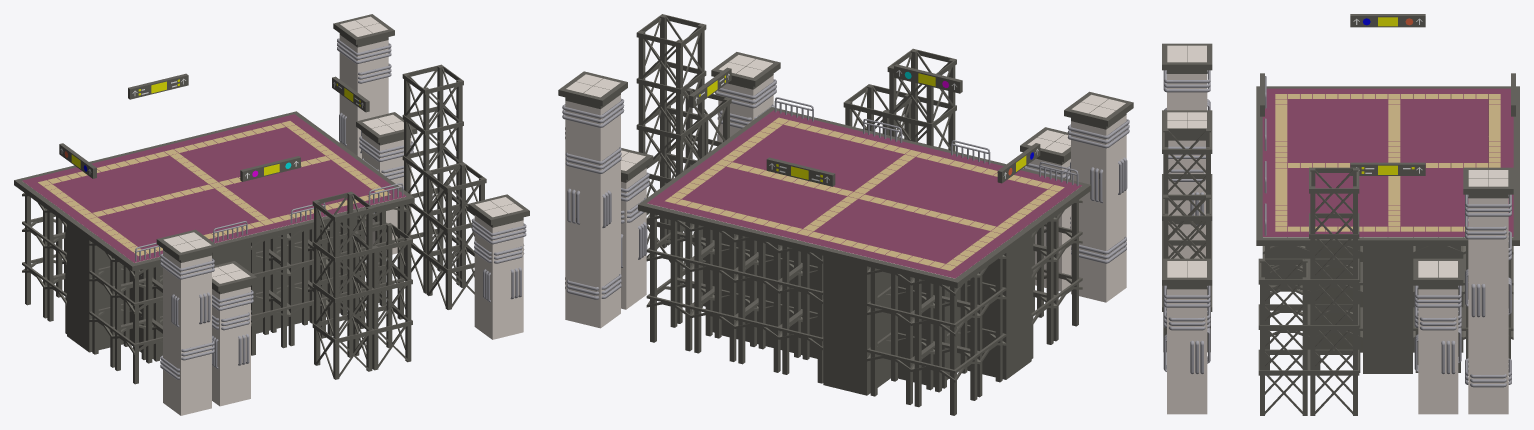
The model's file is StageGroundAssemble_D_SM_A_57.fbx.
The picture shows the model from 3 angles, left to right: view 1: azimuth 30°, elevation 25°; view 2: azimuth 150°, elevation 25°; view 3: azimuth 270°, elevation 25°; orthographic projection. The views are drawn at different scales.
Visible parts, largest first — view 1: Quad, stage_d_sm_background_57, stage_d_sm_foreground_57, stage_d_background_deco_sm_001, stage_d_background_deco_sm_004, stage_d_background_deco_sm_005, stage_d_background_deco_sm__1_, stage_d_background_deco_sm__2_, stage_d_background_deco_sm_002, stage_d_background_deco_sm_003__1_, stage_d_background_deco_sm_003, stage_d_background_deco_sm; view 2: stage_d_sm_background_57, Quad, stage_d_sm_foreground_57, stage_d_background_deco_sm_002, stage_d_background_deco_sm_001, stage_d_background_deco_sm_005, stage_d_background_deco_sm, stage_d_background_deco_sm_004, stage_d_background_deco_sm__1_, stage_d_background_deco_sm__2_, stage_d_background_deco_sm_003__1_, stage_d_background_deco_sm_003; view 3: Quad, stage_d_sm_foreground_57, stage_d_sm_background_57, stage_d_background_deco_sm_002, stage_d_background_deco_sm_005, stage_d_background_deco_sm__1_, stage_d_background_deco_sm, stage_d_background_deco_sm_003__1_, stage_d_background_deco_sm__2_, stage_d_background_deco_sm_001, stage_d_background_deco_sm_004, stage_d_background_deco_sm_003.
Part boxes in pixels (box(x1,y1,x2,y2)): Quad: box(22, 114, 406, 262); stage_d_sm_background_57: box(22, 193, 406, 384); stage_d_sm_foreground_57: box(14, 73, 414, 271); stage_d_background_deco_sm_001: box(156, 229, 218, 415); stage_d_background_deco_sm_004: box(312, 191, 373, 379); stage_d_background_deco_sm_005: box(402, 64, 463, 293); stage_d_background_deco_sm__1_: box(468, 194, 529, 339); stage_d_background_deco_sm__2_: box(212, 261, 257, 406); stage_d_background_deco_sm_002: box(333, 14, 394, 158); stage_d_background_deco_sm_003__1_: box(425, 162, 486, 309); stage_d_background_deco_sm_003: box(353, 223, 412, 370); stage_d_background_deco_sm: box(356, 112, 417, 255); stage_d_sm_background_57: box(646, 199, 1082, 415); Quad: box(647, 110, 1081, 278); stage_d_sm_foreground_57: box(638, 64, 1091, 288); stage_d_background_deco_sm_002: box(558, 71, 627, 328); stage_d_background_deco_sm_001: box(1064, 91, 1133, 302); stage_d_background_deco_sm_005: box(636, 14, 706, 269); stage_d_background_deco_sm: box(621, 148, 653, 309); stage_d_background_deco_sm_004: box(887, 48, 956, 151); stage_d_background_deco_sm__1_: box(711, 52, 780, 142); stage_d_background_deco_sm__2_: box(1020, 127, 1070, 291); stage_d_background_deco_sm_003__1_: box(667, 88, 731, 245); stage_d_background_deco_sm_003: box(843, 84, 910, 139); Quad: box(1262, 88, 1513, 236); stage_d_sm_foreground_57: box(1256, 14, 1519, 245); stage_d_sm_background_57: box(1262, 246, 1513, 373); stage_d_background_deco_sm_002: box(1463, 167, 1513, 414); stage_d_background_deco_sm_005: box(1309, 167, 1359, 415); stage_d_background_deco_sm__1_: box(1162, 258, 1212, 414); stage_d_background_deco_sm: box(1413, 258, 1463, 414); stage_d_background_deco_sm_003__1_: box(1258, 258, 1308, 415); stage_d_background_deco_sm__2_: box(1162, 110, 1212, 258); stage_d_background_deco_sm_001: box(1162, 43, 1212, 110); stage_d_background_deco_sm_004: box(1162, 128, 1212, 285); stage_d_background_deco_sm_003: box(1162, 195, 1212, 352).
Bounding box in the file's own units: 3650 × 2001 × 2850.
2 materials, 1 textured.
